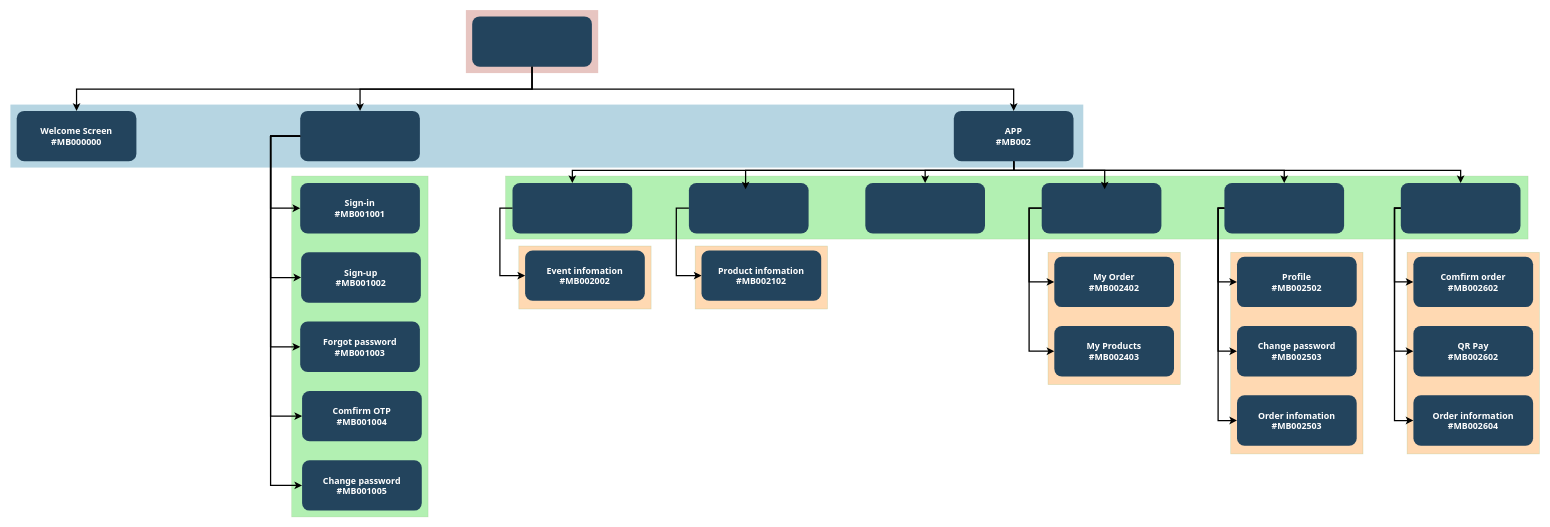
This 1550x527 diagram has some shape labels left out. Here are the shapes that lost their labels. From the top down, the centre of each, then its label:
At pixel 532 41: "Mark App".
At pixel 360 136: "Authentication #MB001".
At pixel 572 208: "Home #MB002001".
At pixel 748 208: "Categories #MB002101".
At pixel 925 208: "Chat #MB002301".
At pixel 1101 208: "Personal #MB002401".
At pixel 1284 208: "Setting #MB002501".
At pixel 1460 208: "Cart #MB002601".
